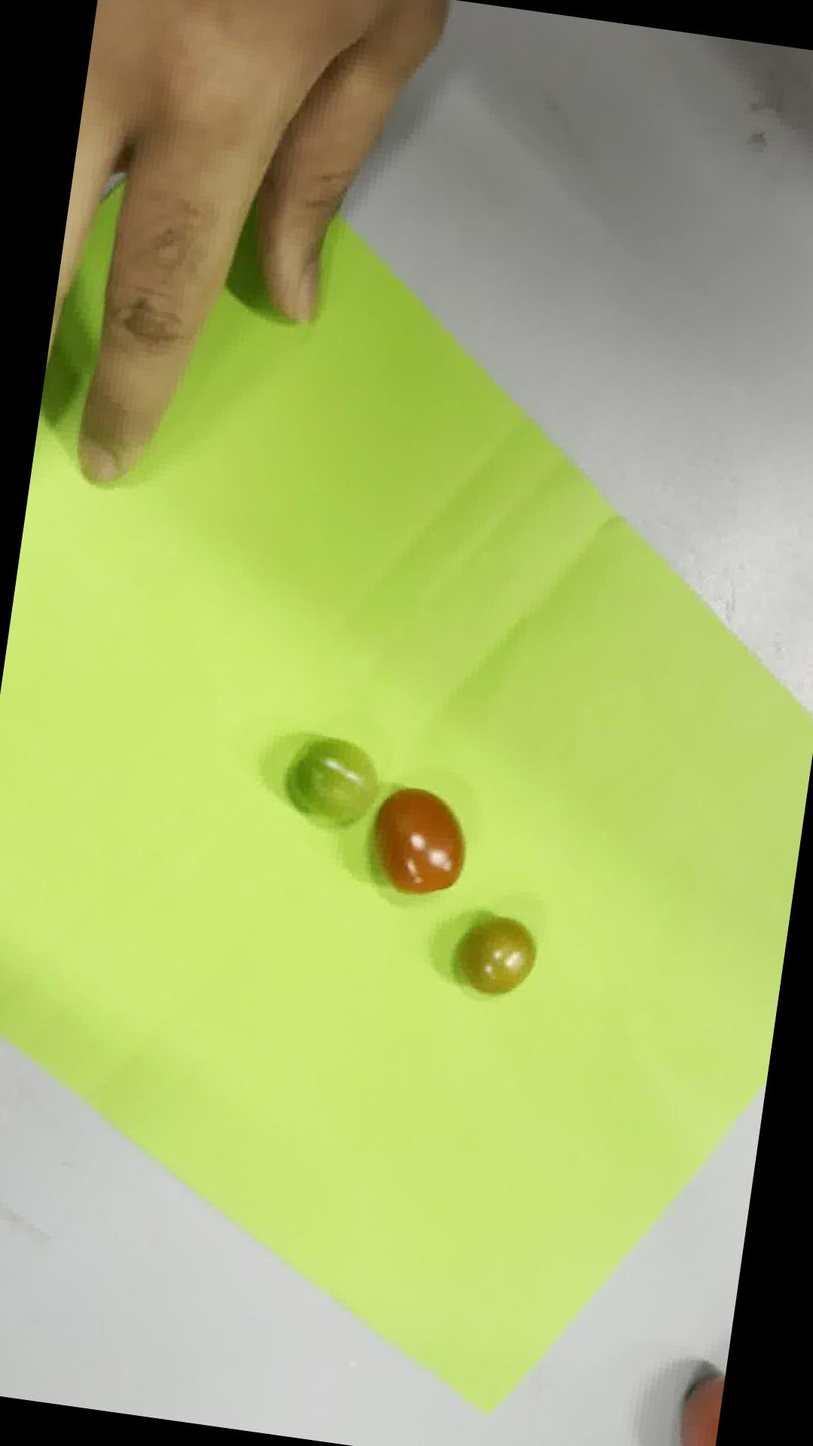green_cherry_tomato: (291, 738, 376, 823)
red_cherry_tomato: (374, 788, 464, 893)
yellow_cherry_tomato: (456, 915, 537, 996)
